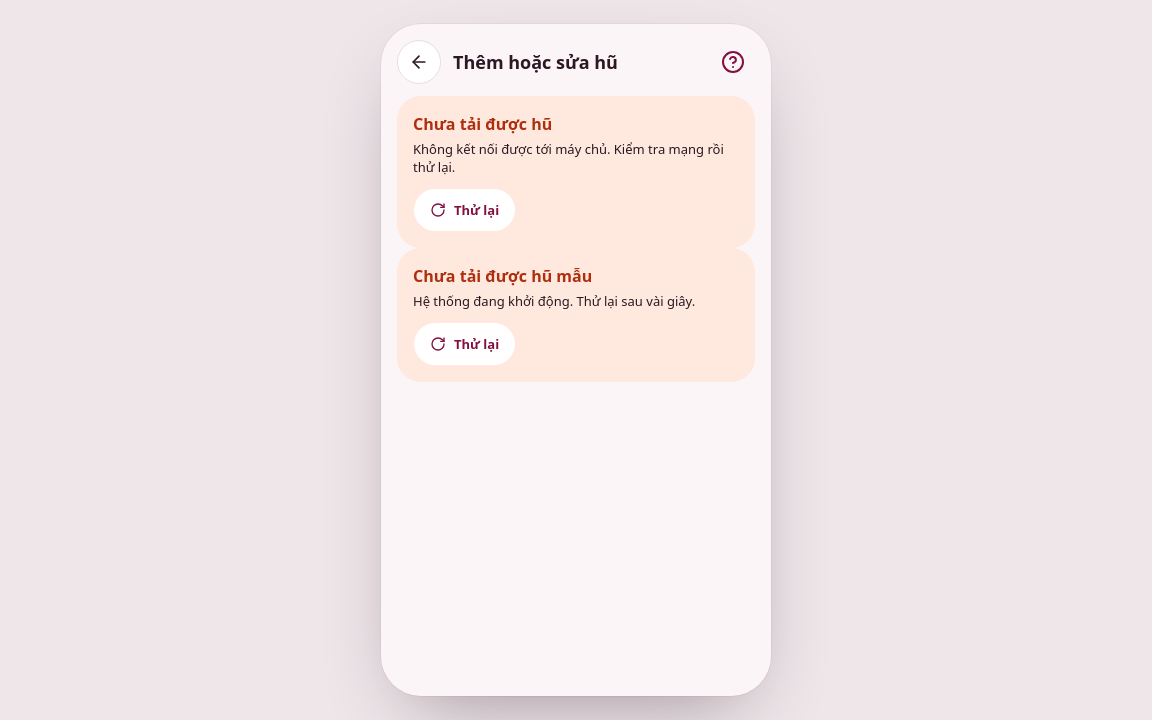
Test case: nút trợ giúp ở hai nơi chia tỷ lệ › màn "Thêm hoặc sửa hũ": mẫu hũ lỗi thì nút vẫn có và tấm không vỡ
Step 1. Click the button named "Cách chia hũ hợp lý" → (733, 62), box [711, 40, 755, 84]
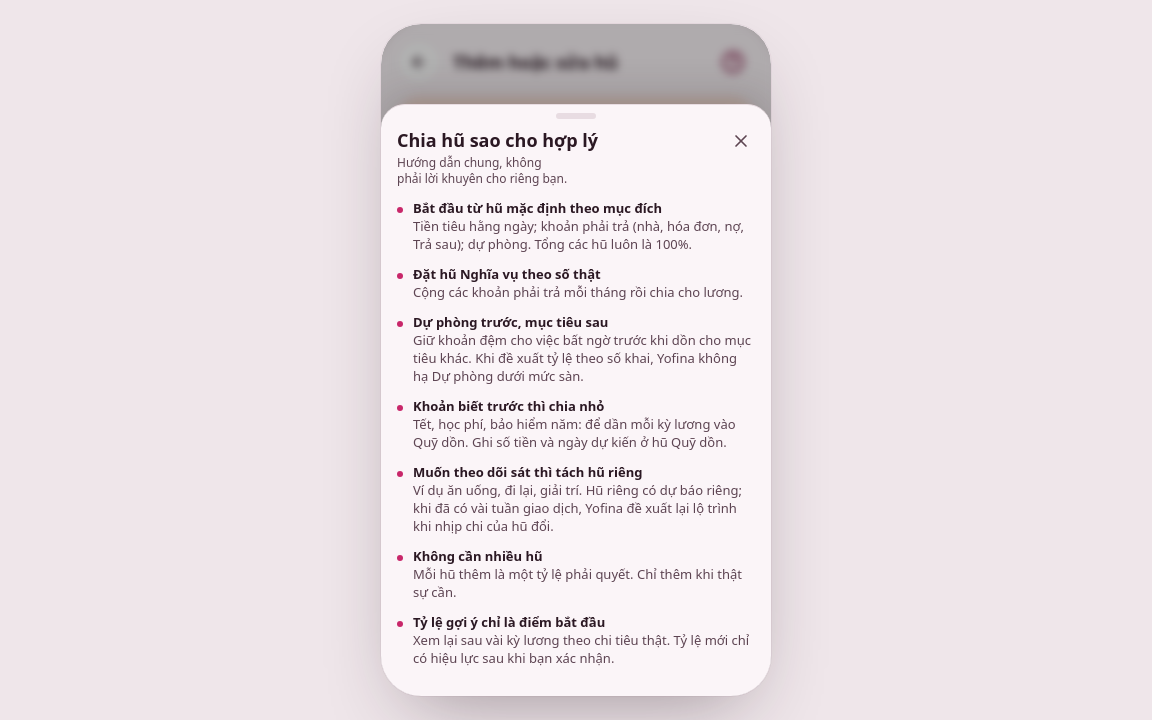
expect the list named "Gợi ý chia hũ" is shown: met, box [397, 199, 755, 667]
